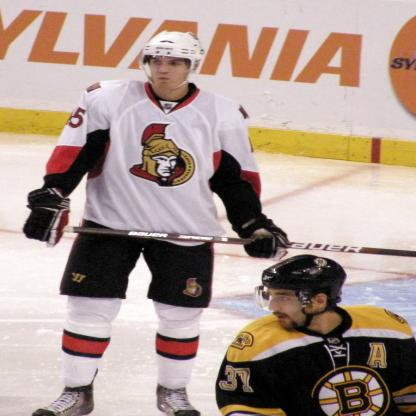Helmet: (258, 261, 354, 334), (139, 32, 207, 89)
